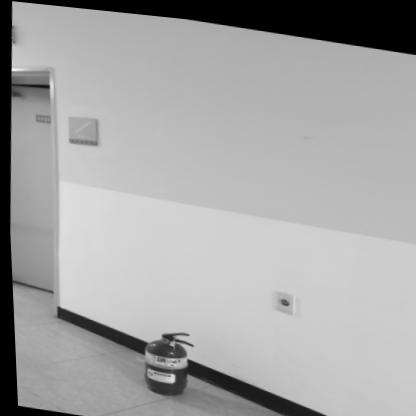FE: (139, 323, 193, 395)
